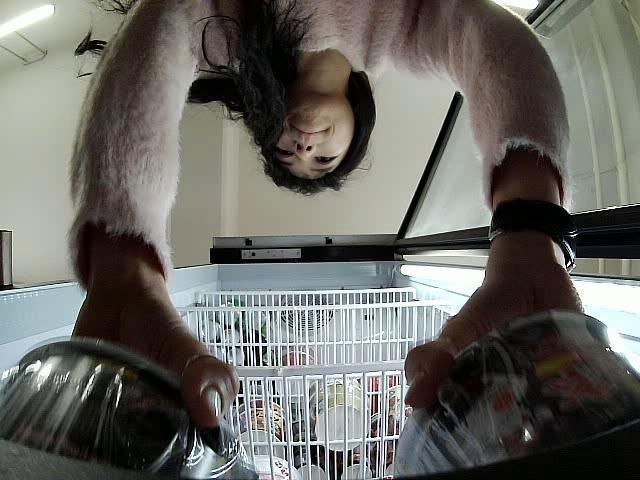07_buldak_L: (393, 309, 640, 480), (0, 336, 261, 480)
